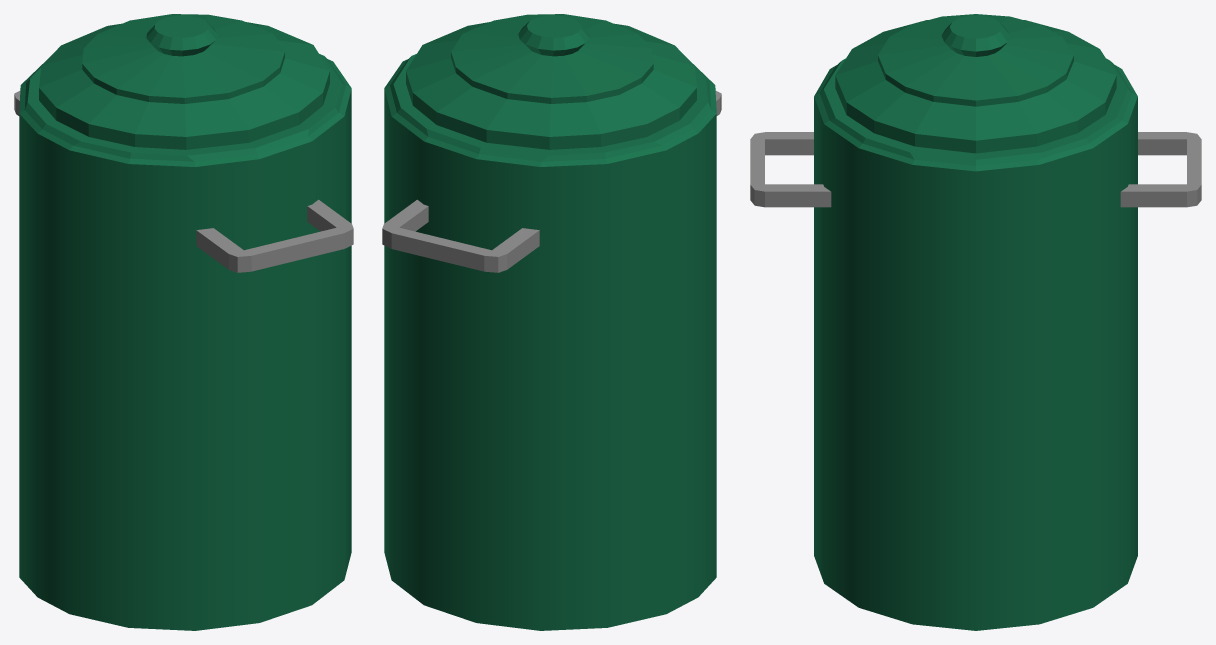
The model's file is SM_bin_01.fbx.
3 renders of one model, left to right at view 1: azimuth 30°, elevation 25°; view 2: azimuth 150°, elevation 25°; view 3: azimuth 270°, elevation 25°, orthographic.
Parts seen in each view (by area): view 1: bin_01; view 2: bin_01; view 3: bin_01.
Boxes of the visible parts, x1,y1,x2,y2 form: bin_01: (14,14,353,630); bin_01: (382,14,721,630); bin_01: (750,14,1201,630).
Bounding box in the file's own units: 58.47 × 101 × 78.08.
